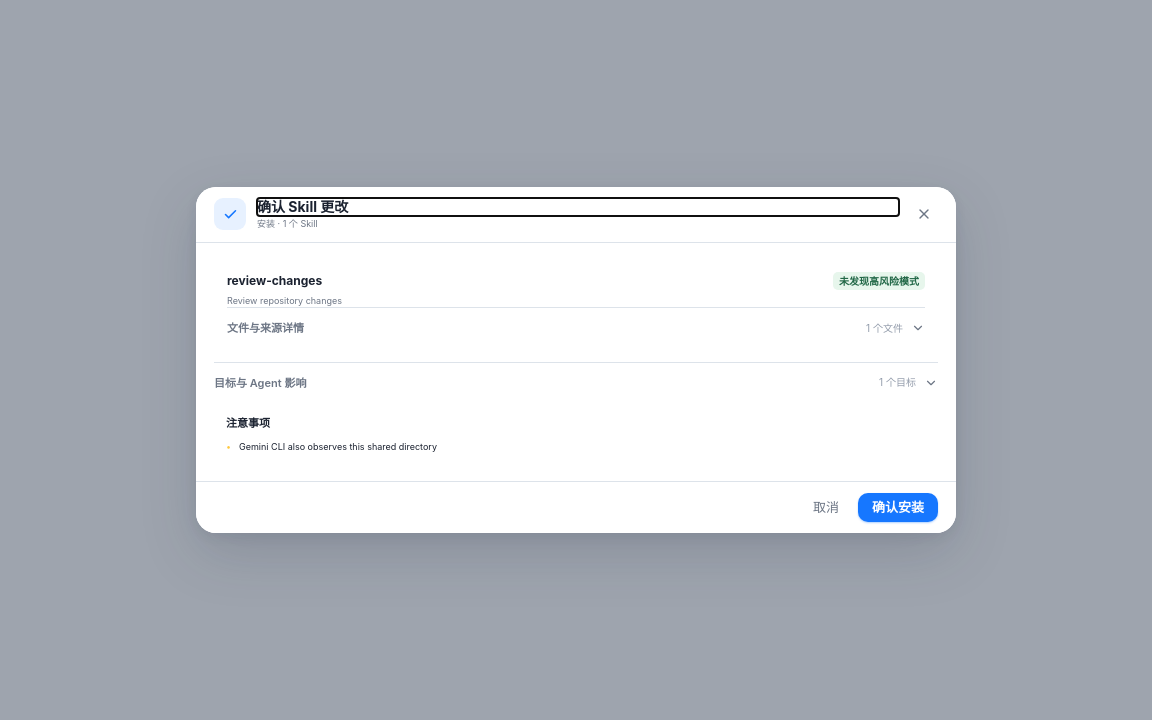
Test: SkillReviewDialog › expires the review after a stale-plan response
Step 1. Click the button "确认安装" → click(898, 508), box 858,493 -> 938,522
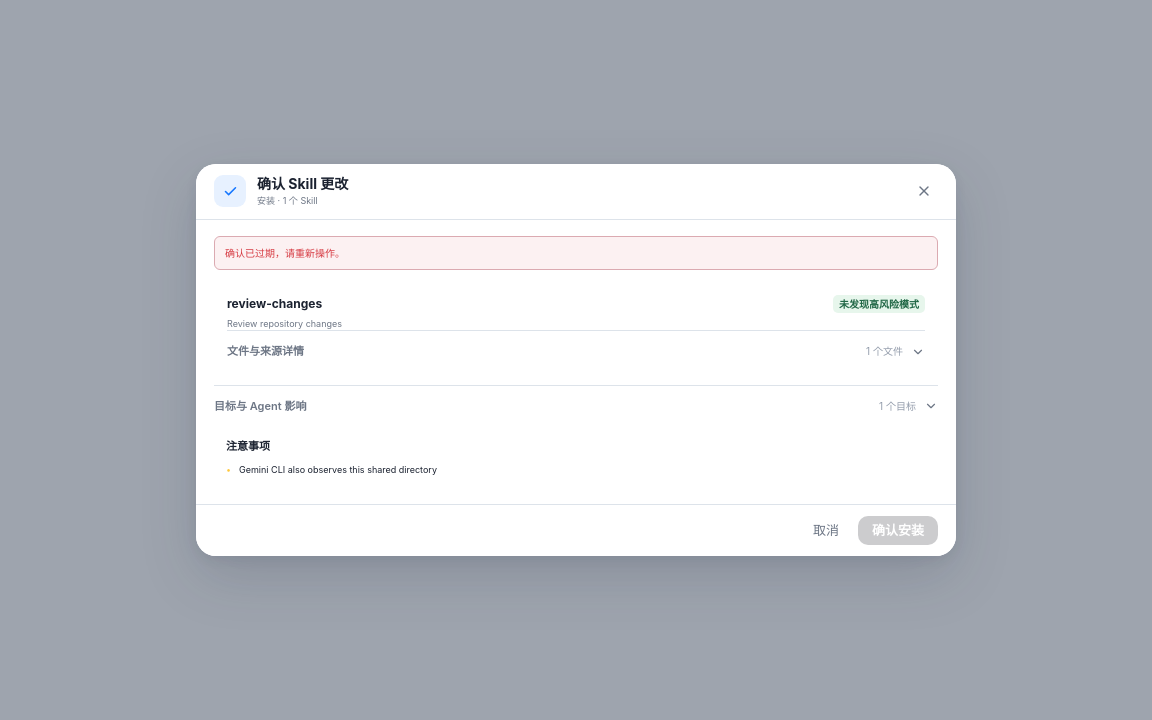
expect the text "确认已过期，请重新操作。" is shown: met, box 214,236 -> 938,270
expect the button "确认安装" is disabled: met, box 858,516 -> 938,545
